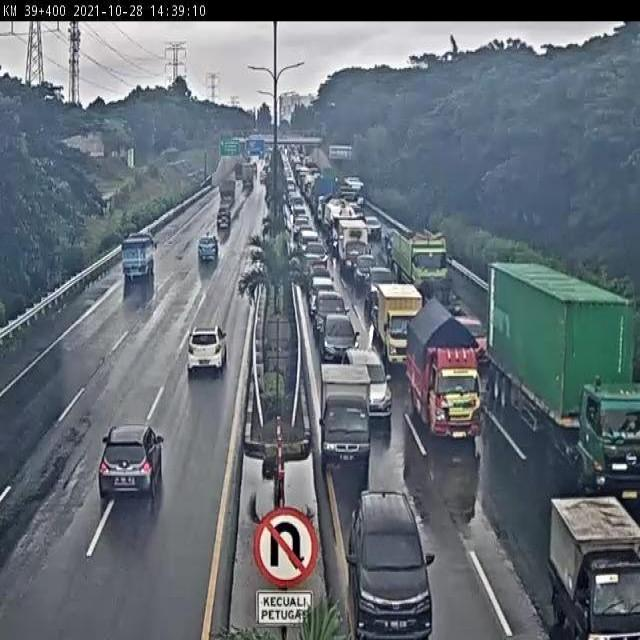big truck: (483, 233, 640, 524), (384, 228, 452, 301)
car: (335, 484, 445, 635), (85, 404, 180, 519), (179, 319, 240, 396), (344, 341, 394, 424), (187, 212, 231, 283), (316, 308, 361, 365), (454, 310, 491, 370), (310, 288, 351, 341)
small truck: (529, 470, 640, 640), (395, 292, 497, 453), (311, 356, 375, 481), (371, 284, 429, 373), (119, 231, 160, 289)
